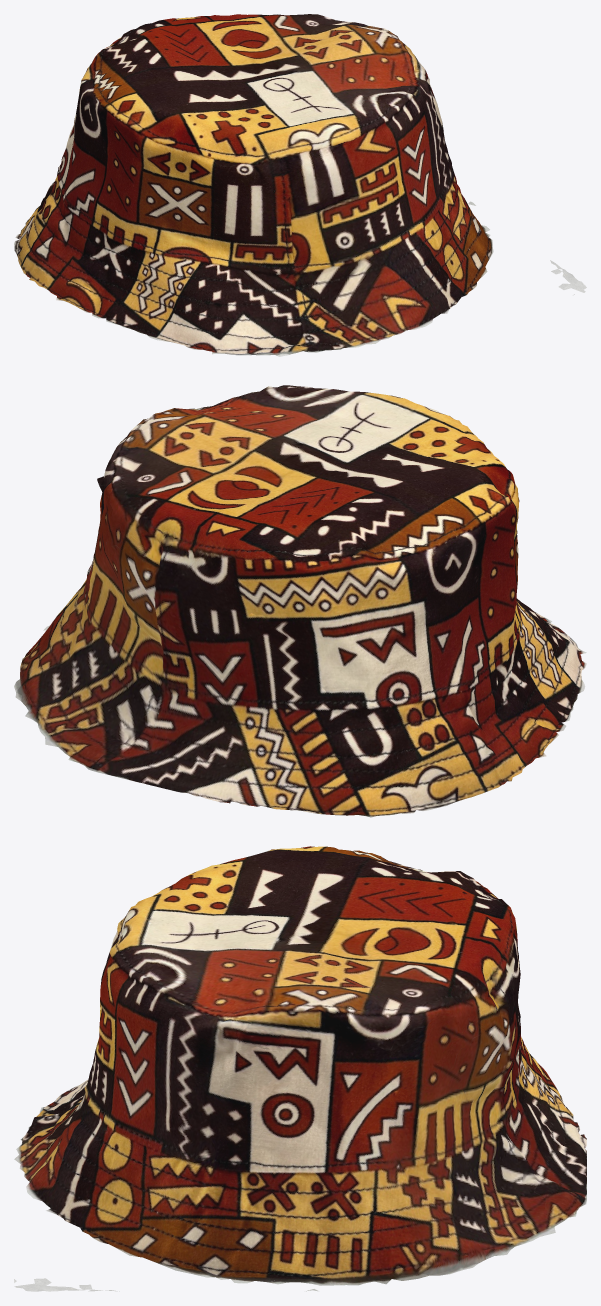
The model's file is fashion_bucket_hat_from_africa.glb.
3 renders of one model, top to bottom at view 1: azimuth 30°, elevation 25°; view 2: azimuth 150°, elevation 25°; view 3: azimuth 270°, elevation 25°, orthographic. The views are drawn at different scales.
Parts seen in each view (by area): view 1: Object_4; view 2: Object_4; view 3: Object_4.
Part boxes in pixels (x1,y1,x2,y2): Object_4: (14,14,586,356); Object_4: (14,385,586,817); Object_4: (14,846,586,1291).
Bounding box in the file's own units: 0.2579 × 0.117 × 0.2488.
Materials: 1 (1 with a texture image).
